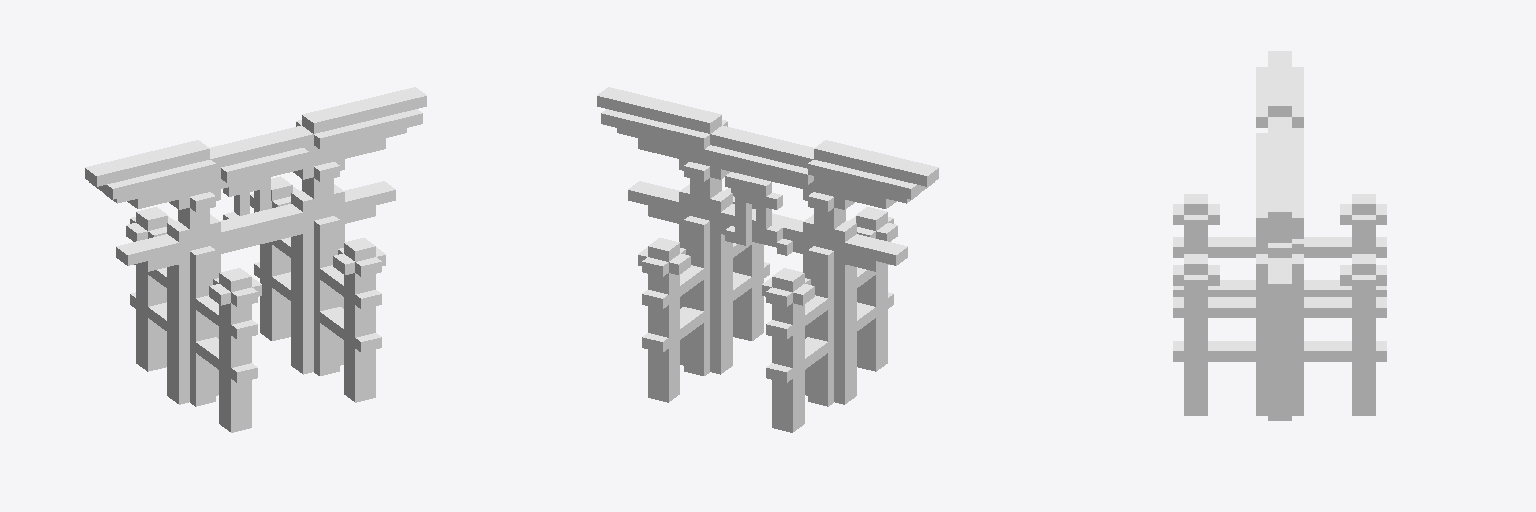
The model's file is Torii.obj.
3 views of the same model, side by side, from view 1: azimuth 30°, elevation 25°; view 2: azimuth 150°, elevation 25°; view 3: azimuth 270°, elevation 25° (orthographic).
Size of the model in its own units: 32 by 23 by 18.